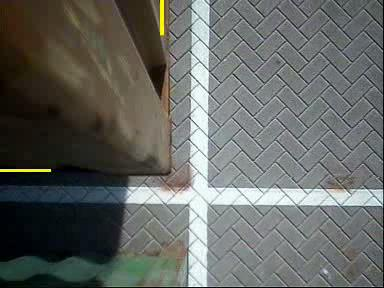groundmarker_2: (144, 178, 253, 274)
